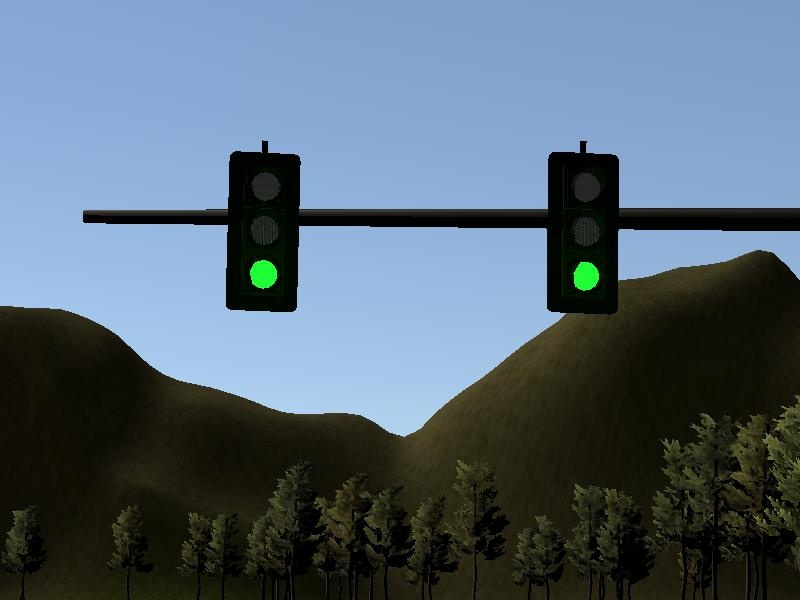green: (546, 155, 618, 315), (229, 153, 300, 313)
